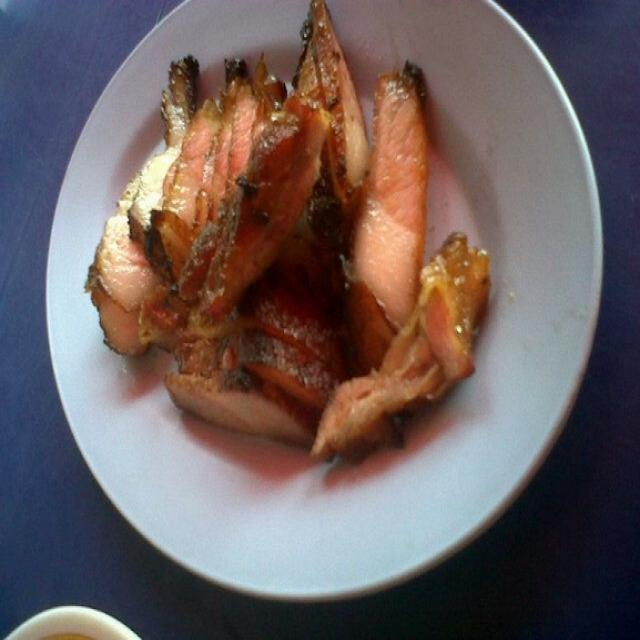猪肉菜式: (53, 1, 598, 578)
